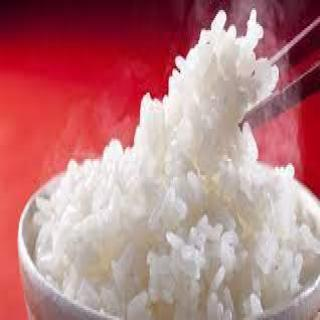Nasi: (32, 7, 320, 317)
